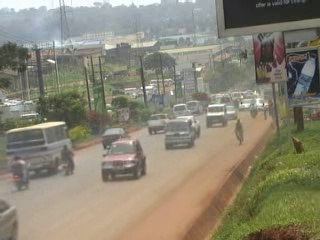Car: (100, 136, 149, 183), (0, 196, 27, 239), (161, 118, 195, 151), (203, 101, 228, 130), (100, 126, 130, 149), (236, 97, 251, 112), (226, 104, 236, 120)
Motorcycle: (9, 152, 33, 191), (58, 143, 78, 176), (249, 100, 260, 119)
